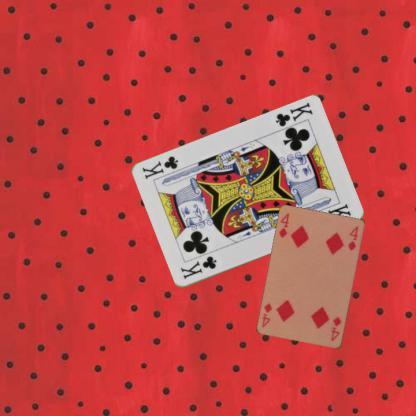4d: (276, 210, 291, 240), (328, 314, 343, 342)
Kc: (272, 100, 314, 128), (177, 254, 218, 281)
